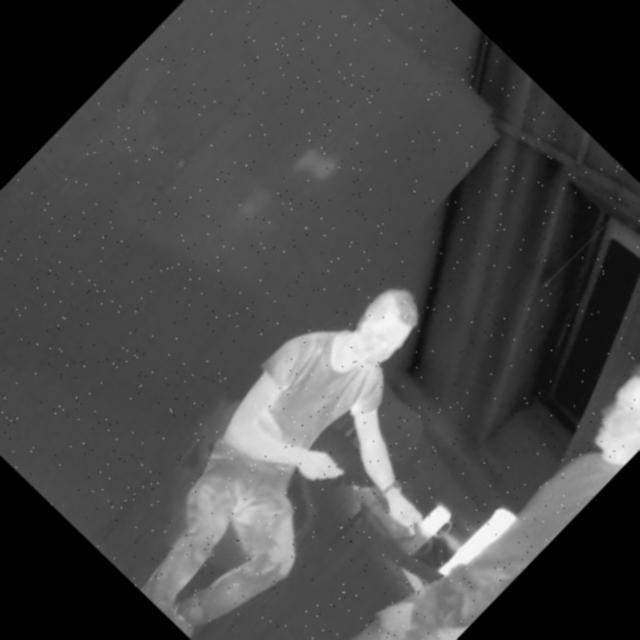person: (89, 251, 524, 640), (254, 292, 640, 640)
